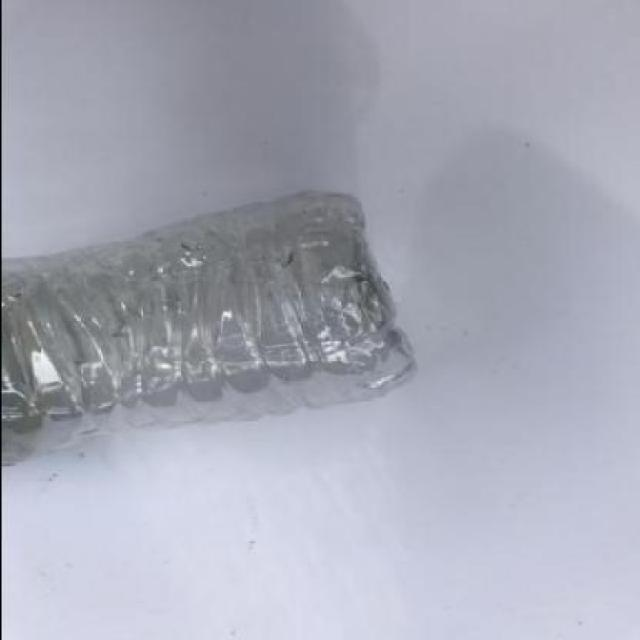PLASTIC: (1, 192, 417, 466)
